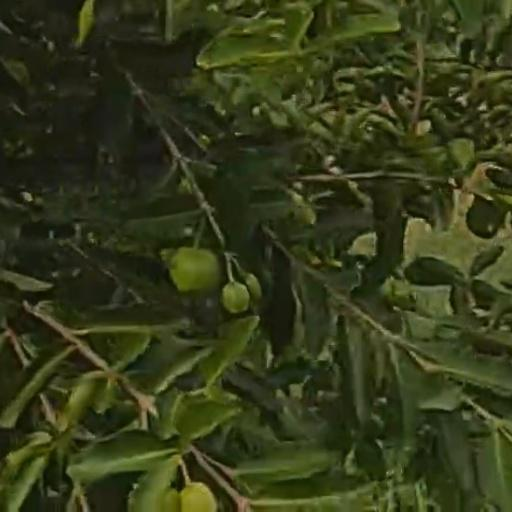acerola: (173, 247, 221, 293), (179, 484, 216, 511), (224, 285, 250, 313)
